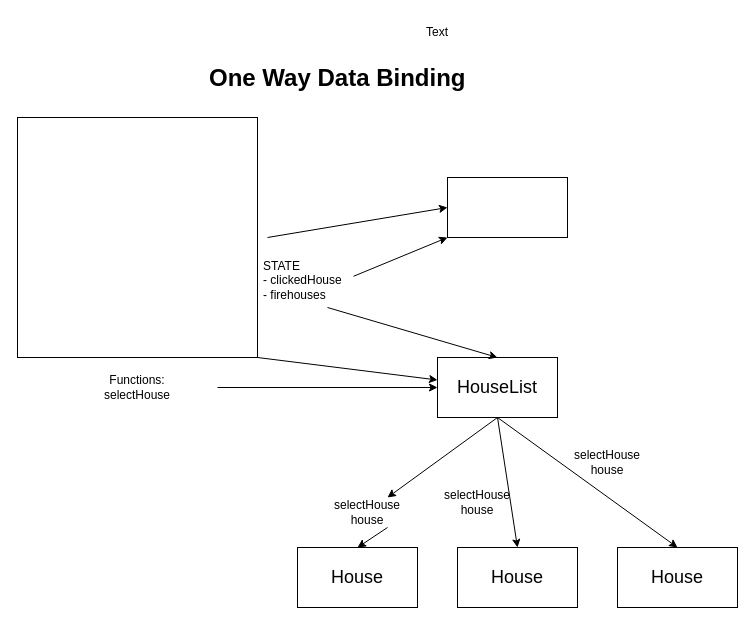
The diagram is 755 pixels wide and 625 high, and some of its shapes have lost their labels. The centre of each missing label's shape, as x and y in pixels:
"App" belongs at point (137, 237).
"CurrentHouse" belongs at point (507, 207).
